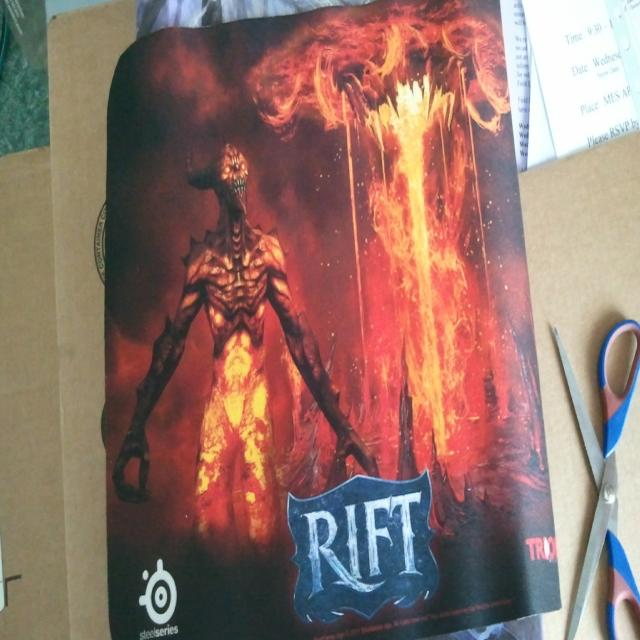scissors: (552, 318, 640, 639)
